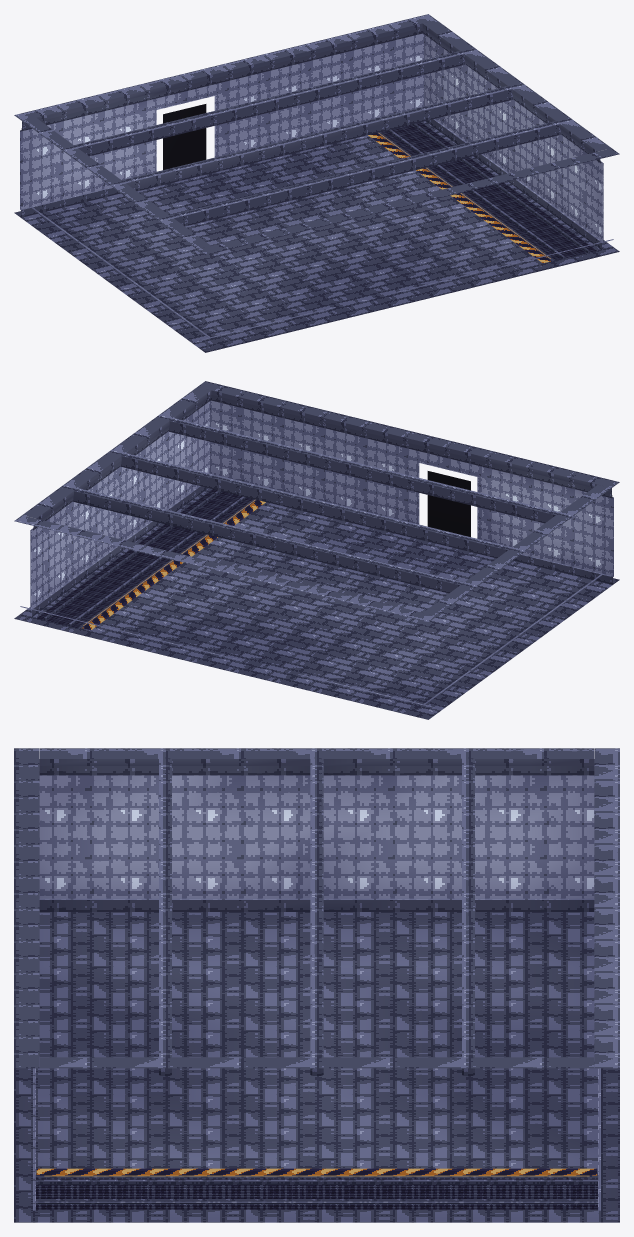
The model's file is cyroom.subway__arena.glb.
3 renders of one model, top to bottom at view 1: azimuth 30°, elevation 25°; view 2: azimuth 150°, elevation 25°; view 3: azimuth 270°, elevation 25°, orthographic. The views are drawn at different scales.
Visible parts, largest first — view 1: kit_shell_floor, kit_shell_walls, kit_shell_rig, kit_card_lights, kit_trim; view 2: kit_shell_floor, kit_shell_walls, kit_shell_rig, kit_card_lights, kit_trim; view 3: kit_shell_floor, kit_shell_walls, kit_shell_rig, kit_trim, kit_card_lights.
Boxes of the visible parts, <box> form: kit_shell_floor: <box>14,121,619,352</box>; kit_shell_walls: <box>14,14,619,340</box>; kit_shell_rig: <box>73,51,560,226</box>; kit_card_lights: <box>163,104,550,258</box>; kit_trim: <box>387,123,589,259</box>; kit_shell_floor: <box>14,488,619,719</box>; kit_shell_walls: <box>14,381,619,707</box>; kit_shell_rig: <box>73,418,560,593</box>; kit_card_lights: <box>83,471,470,625</box>; kit_trim: <box>44,490,246,626</box>; kit_shell_floor: <box>14,912,619,1222</box>; kit_shell_walls: <box>14,748,619,1210</box>; kit_shell_rig: <box>159,757,474,1075</box>; kit_trim: <box>36,1179,597,1203</box>; kit_card_lights: <box>44,1175,589,1176</box>.
Bounding box in the file's own units: 20 × 4.5 × 16.
8 materials, 8 textured.
